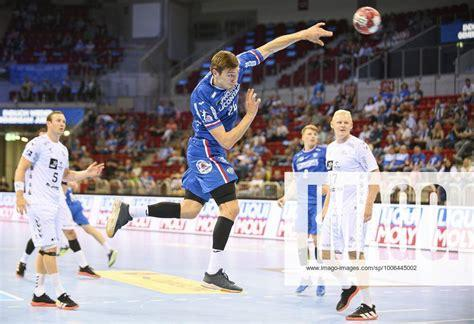ballon_handball: (351, 5, 382, 35)
